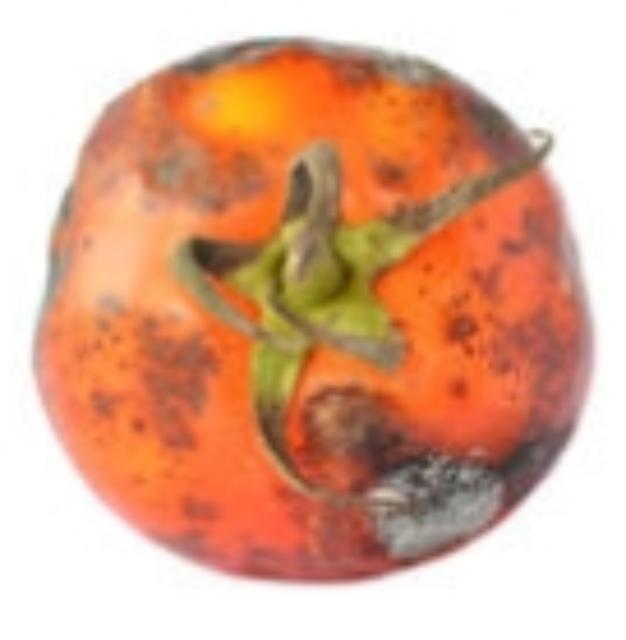defect: (27, 19, 606, 601)
